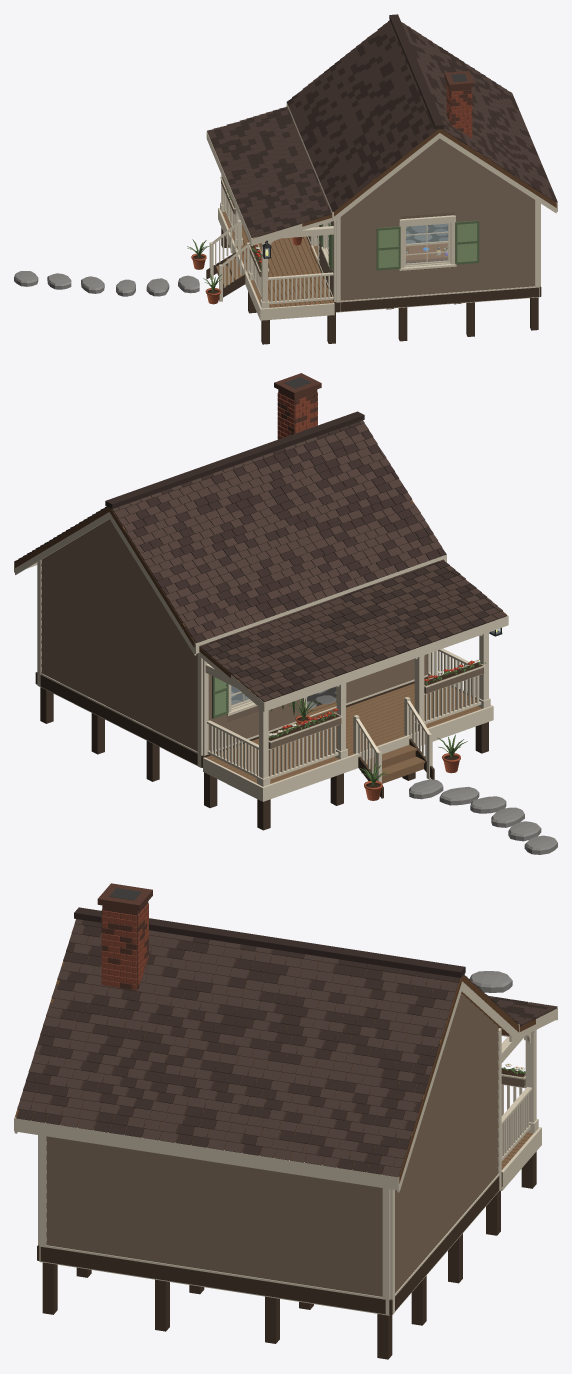
File: CasaImeri.glb
3 renders of one model, top to bottom at view 1: azimuth 30°, elevation 25°; view 2: azimuth 150°, elevation 25°; view 3: azimuth 270°, elevation 25°, orthographic. The views are drawn at different scales.
Visible parts, largest first — view 1: Imeri_Techo, Imeri_Paredes, Imeri_Base, Imeri_Ventanas, Imeri_Porche, Imeri_Senda, Imeri_Chimenea, Imeri_Jardin, Imeri_Piso, Imeri_Mesa; view 2: Imeri_Techo, Imeri_Paredes, Imeri_Base, Imeri_Porche, Imeri_Jardin, Imeri_Senda, Imeri_Chimenea, Imeri_Ventanas, Imeri_Piso; view 3: Imeri_Techo, Imeri_Paredes, Imeri_Base, Imeri_Chimenea, Imeri_Porche, Imeri_Senda.
Part boxes in pixels (<box>): Imeri_Techo: <box>206,14,557,246</box>; Imeri_Paredes: <box>307,138,540,312</box>; Imeri_Base: <box>206,208,541,344</box>; Imeri_Ventanas: <box>319,220,479,270</box>; Imeri_Porche: <box>209,175,333,308</box>; Imeri_Senda: <box>14,271,199,296</box>; Imeri_Chimenea: <box>444,71,474,137</box>; Imeri_Jardin: <box>187,176,302,304</box>; Imeri_Piso: <box>406,223,448,243</box>; Imeri_Mesa: <box>406,243,448,263</box>; Imeri_Techo: <box>14,411,508,711</box>; Imeri_Paredes: <box>37,519,430,767</box>; Imeri_Base: <box>35,672,493,830</box>; Imeri_Porche: <box>205,632,490,796</box>; Imeri_Jardin: <box>268,659,486,800</box>; Imeri_Senda: <box>409,779,557,854</box>; Imeri_Chimenea: <box>274,373,321,439</box>; Imeri_Ventanas: <box>212,676,251,718</box>; Imeri_Piso: <box>231,686,336,713</box>; Imeri_Techo: <box>14,907,557,1192</box>; Imeri_Paredes: <box>38,994,501,1315</box>; Imeri_Base: <box>37,1127,541,1359</box>; Imeri_Chimenea: <box>97,883,152,990</box>; Imeri_Porche: <box>501,1029,538,1161</box>; Imeri_Senda: <box>470,971,512,992</box>.
Size of the model in its own units: 15.64 by 7.93 by 10.23.
